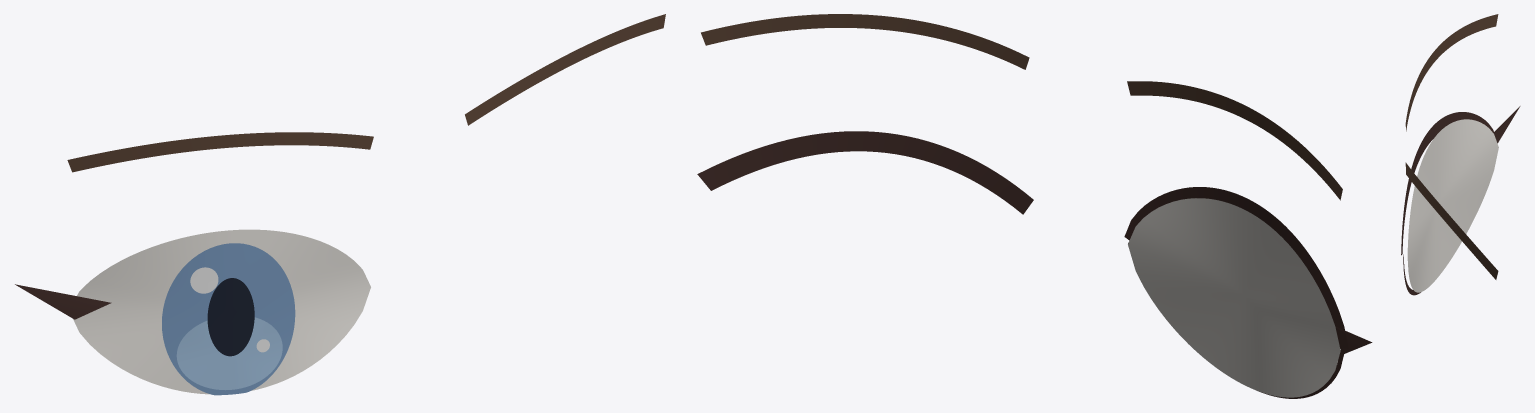
Rendered from female_eyes_ref09_v3.glb.
The picture shows the model from 3 angles, left to right: view 1: azimuth 30°, elevation 25°; view 2: azimuth 150°, elevation 25°; view 3: azimuth 270°, elevation 25°; orthographic projection. The views are drawn at different scales.
Parts seen in each view (by area): view 1: Eye_White_-1, Eye_Iris_-1, Eye_Iris_Light_-1, Eyebrow_-1, Eye_Pupil_-1, Eyebrow_1, Eye_LashWing_-1, Eye_Glint_-1_0; view 2: Eye_White_-1, Eye_Closed_1, Eyebrow_1, Eye_UpperLid_-1, Eyebrow_-1; view 3: Eye_White_-1, Eyebrow_-1, Eyebrow_1, Eye_UpperLid_-1, Eye_LashWing_-1.
Part boxes in pixels (x1=…): Eye_White_-1: x1=73, y1=229, x2=370, y2=394; Eye_Iris_-1: x1=162, y1=243, x2=295, y2=395; Eye_Iris_Light_-1: x1=176, y1=317, x2=282, y2=390; Eyebrow_-1: x1=67, y1=132, x2=373, y2=172; Eye_Pupil_-1: x1=207, y1=278, x2=254, y2=356; Eyebrow_1: x1=465, y1=14, x2=665, y2=125; Eye_LashWing_-1: x1=15, y1=284, x2=111, y2=319; Eye_Glint_-1_0: x1=190, y1=267, x2=218, y2=293; Eye_White_-1: x1=1128, y1=198, x2=1340, y2=397; Eye_Closed_1: x1=697, y1=131, x2=1033, y2=214; Eyebrow_1: x1=701, y1=14, x2=1029, y2=69; Eye_UpperLid_-1: x1=1124, y1=187, x2=1348, y2=348; Eyebrow_-1: x1=1127, y1=81, x2=1342, y2=200; Eye_White_-1: x1=1407, y1=119, x2=1498, y2=292; Eyebrow_-1: x1=1405, y1=14, x2=1498, y2=131; Eyebrow_1: x1=1405, y1=162, x2=1498, y2=279; Eye_UpperLid_-1: x1=1401, y1=112, x2=1497, y2=255; Eye_LashWing_-1: x1=1493, y1=106, x2=1520, y2=143.
Size of the model in its own units: 0.3949 by 0.1544 by 0.0725.
